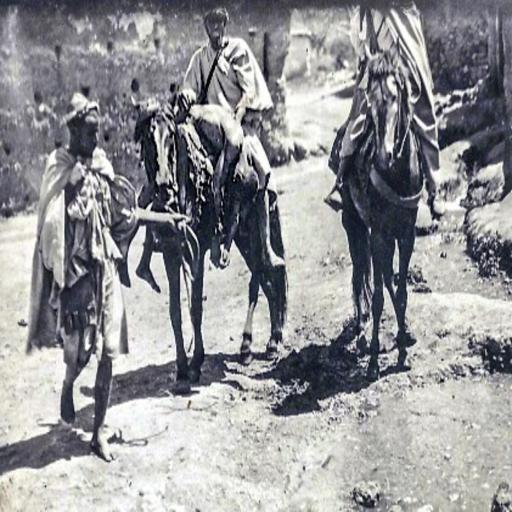horse: (128, 80, 290, 396), (338, 36, 427, 380)
